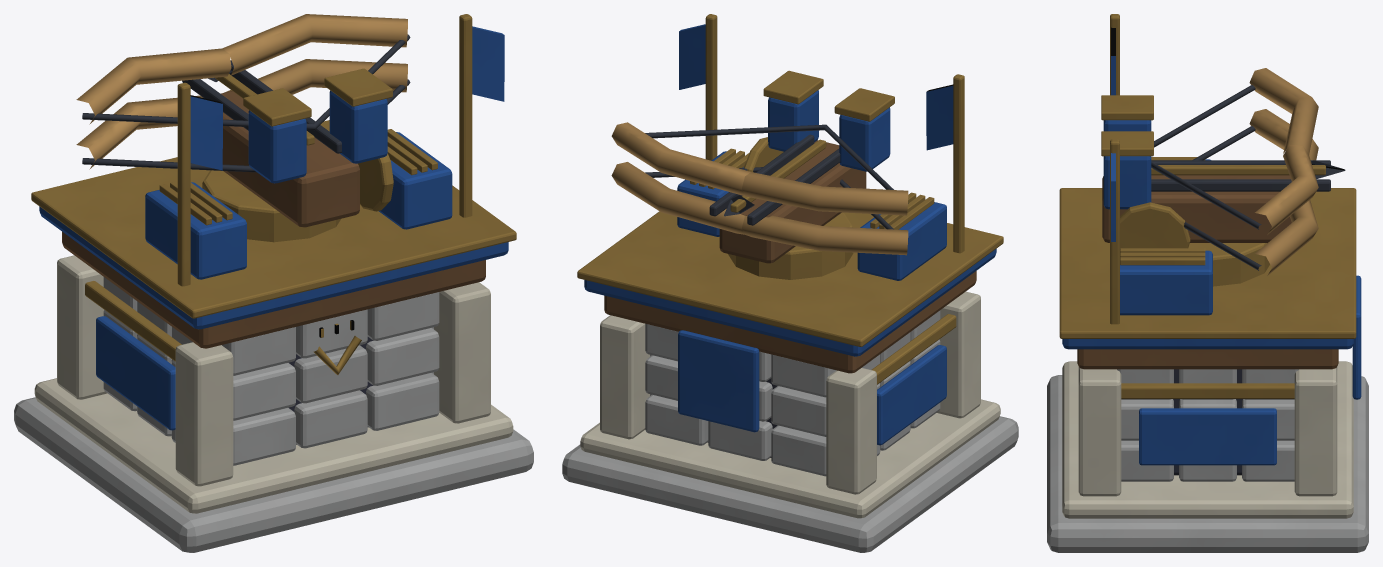
Rendered from ballista_tower_high.glb.
3 renders of one model, left to right at view 1: azimuth 30°, elevation 25°; view 2: azimuth 150°, elevation 25°; view 3: azimuth 270°, elevation 25°, orthographic. The views are drawn at different scales.
Parts seen in each view (by area): view 1: ballista_tower_high_surface; view 2: ballista_tower_high_surface; view 3: ballista_tower_high_surface.
Part boxes in pixels (box(x1,y1,x2,y2)): ballista_tower_high_surface: box(14, 14, 533, 552); ballista_tower_high_surface: box(562, 14, 1018, 552); ballista_tower_high_surface: box(1047, 14, 1368, 552).
Size of the model in its own units: 1.48 by 1.76 by 1.28.
1 material, 1 textured.
